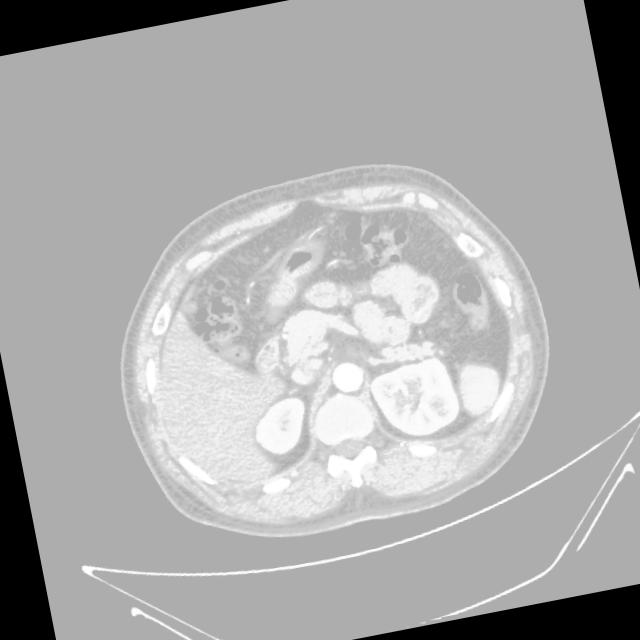NORMAL: (94, 142, 570, 542)
